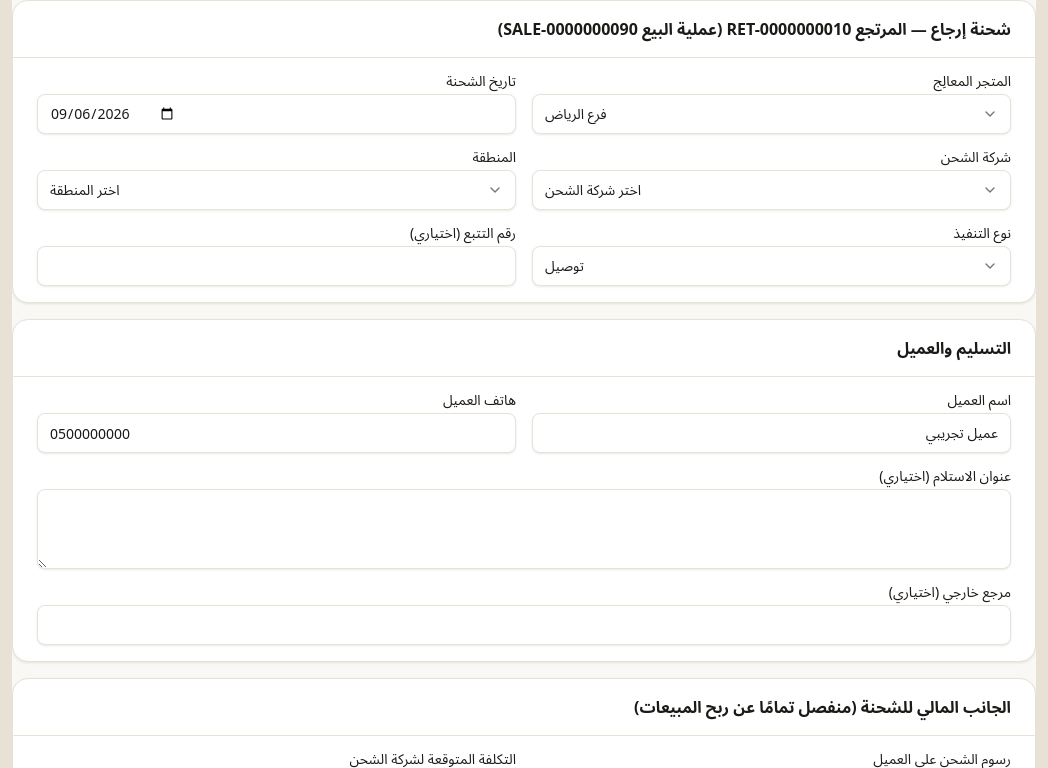
Test: ShipmentEntryForm — Hotfix 5.1.1 items 1/2/3 (return shipping fee) › item 2 (the actual regression): switching to a zone with a DIFFERENT suggestion resyncs the field instead of freezing on the first zone's value
The image size is (1048, 768).
Press the mouse on the dropdown labelled "اختر المنطقة" at x=85, y=190, box [37,170,516,210]
Click the dropdown labelled "اختر المنطقة".
click(85, 190)  # box [37,170,516,210]
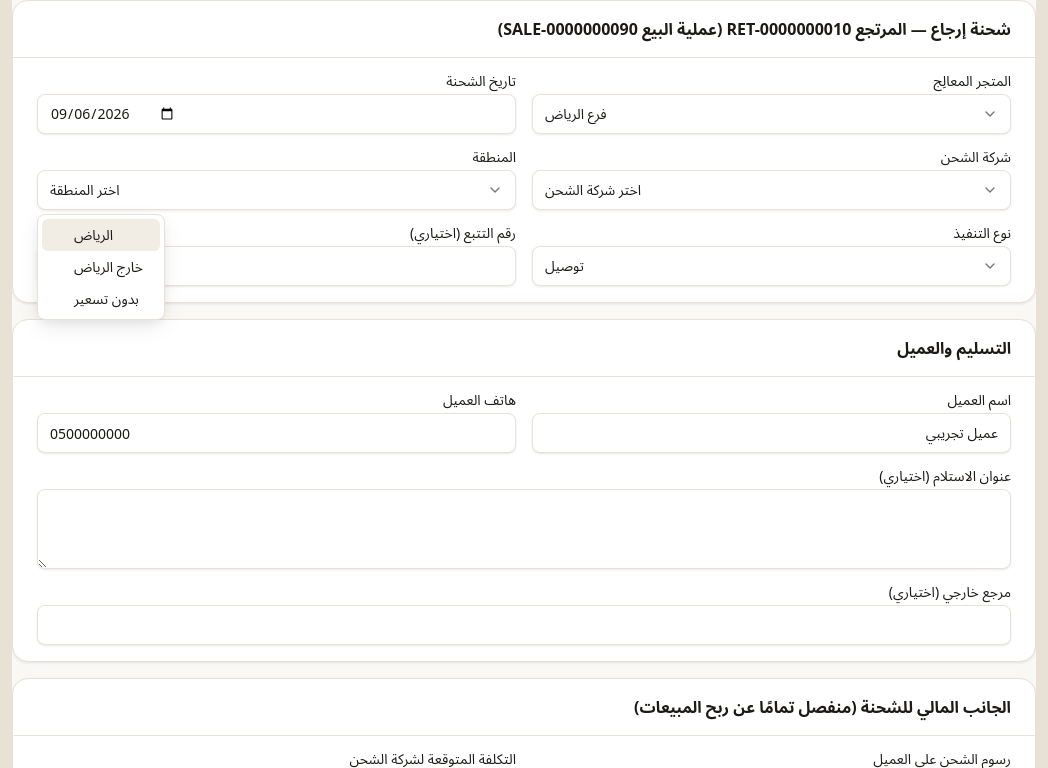
Click the option "الرياض".
click(101, 235)  # box [42,219,160,251]
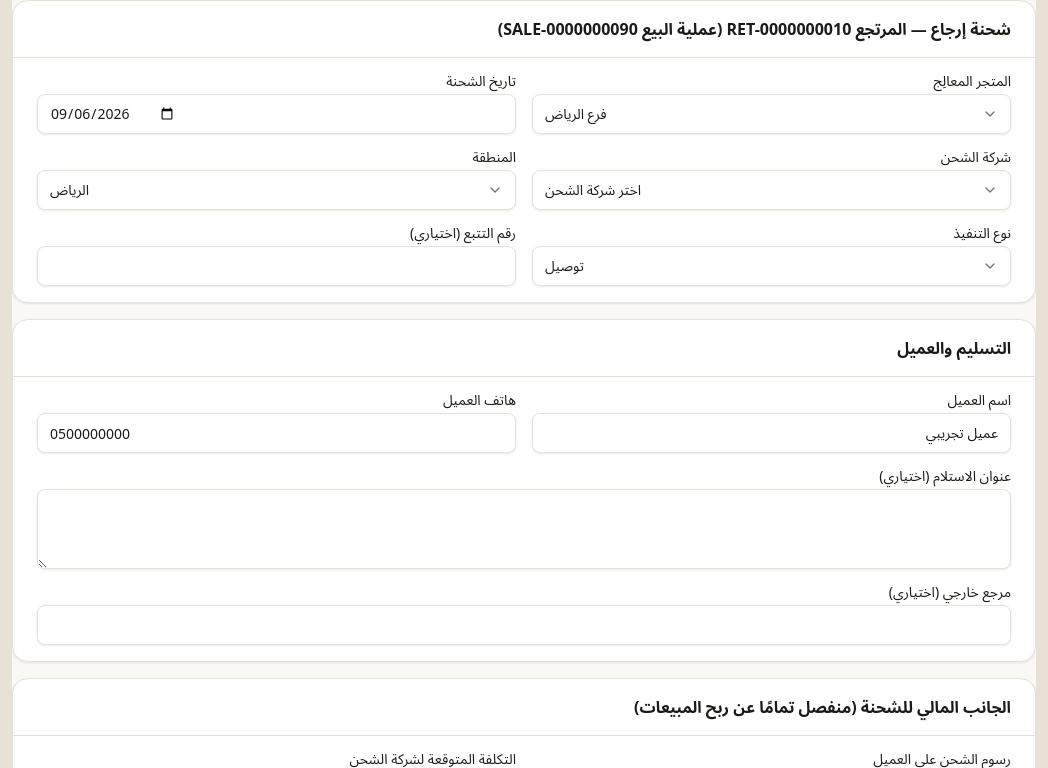
Press the mouse on the dropdown labelled "الرياض" at x=70, y=190, box [37,170,516,210]
Click the dropdown labelled "الرياض".
click(70, 190)  # box [37,170,516,210]
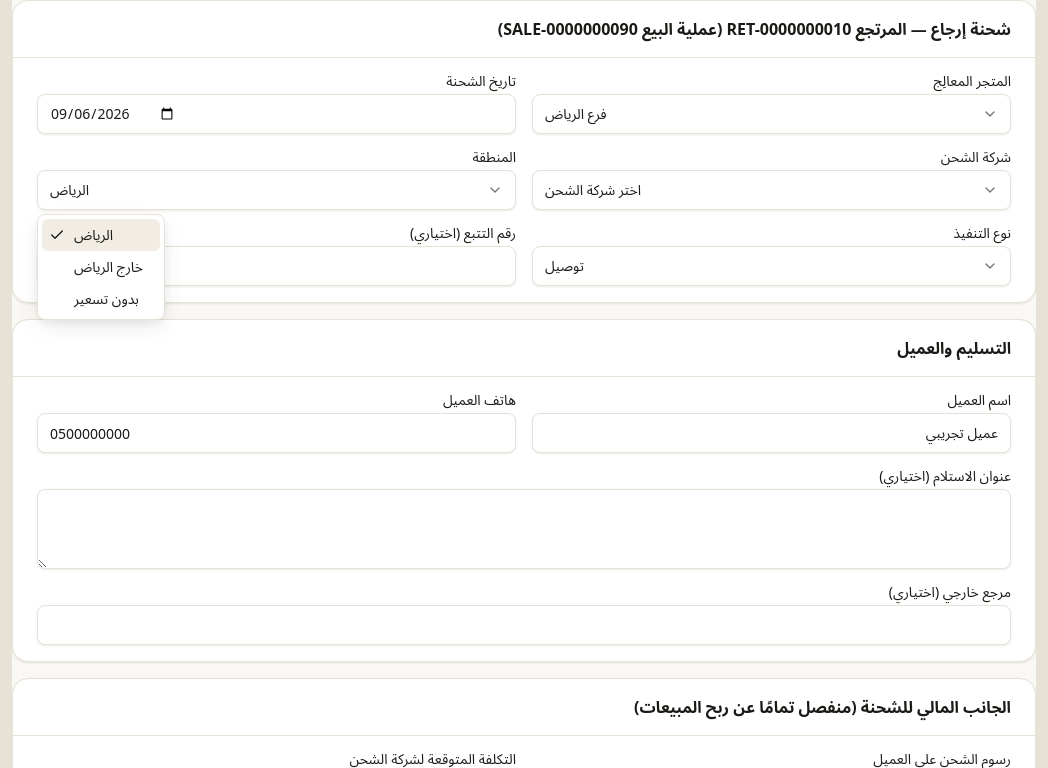
Click the option "خارج الرياض".
click(109, 266)  # box [74,257,143,276]
(page scrolled)
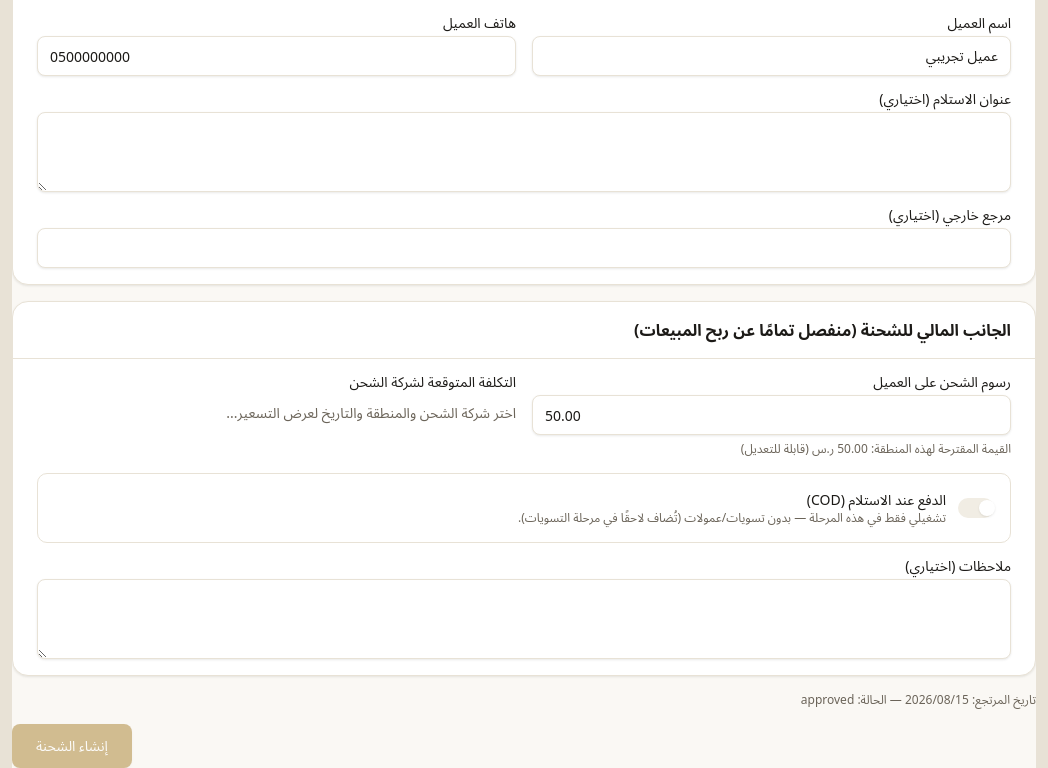
Now the field showing "50.00" below "رسوم الشحن على العميل" is shown, box [532,395,1011,435]
